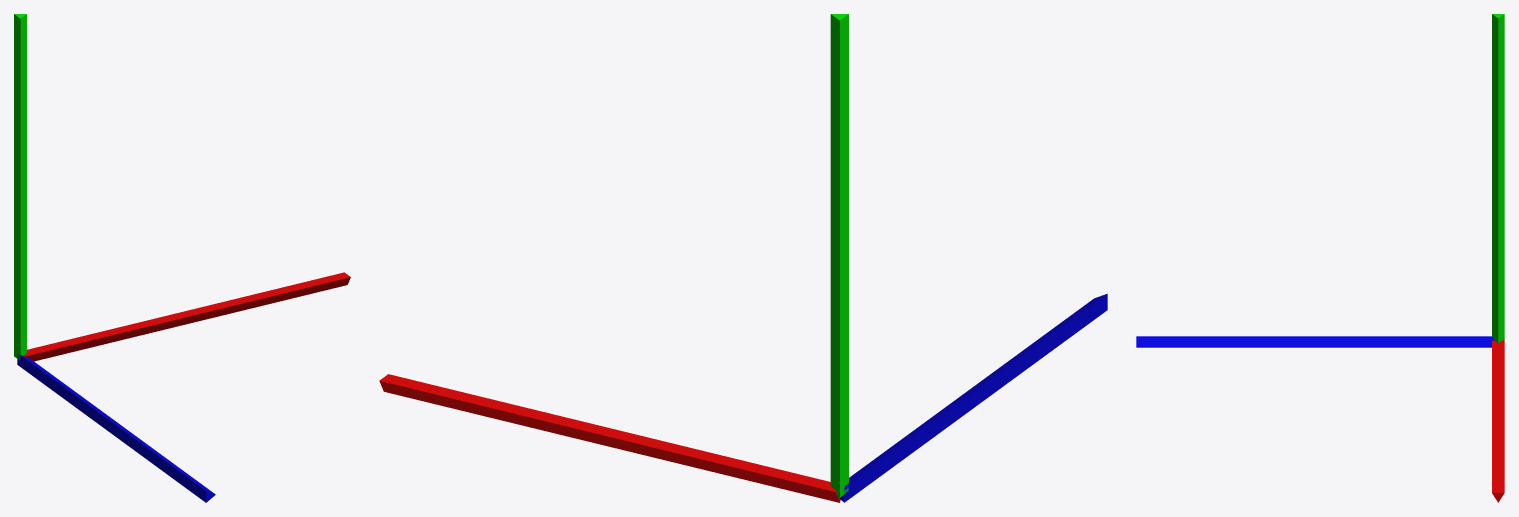
The model's file is Axis.fbx.
The picture shows the model from 3 angles, left to right: view 1: azimuth 30°, elevation 25°; view 2: azimuth 150°, elevation 25°; view 3: azimuth 270°, elevation 25°; orthographic projection. The views are drawn at different scales.
Visible parts, largest first — view 1: pasted__pCylinder1 (×2), pCylinder1; view 2: pasted__pCylinder1 (×2), pCylinder1; view 3: pasted__pCylinder1 (×2), pCylinder1.
Boxes of the visible parts, x1,y1,x2,y2 form: pasted__pCylinder1 (×2): [17, 272, 350, 502]; pCylinder1: [14, 14, 26, 360]; pasted__pCylinder1 (×2): [379, 293, 1107, 502]; pCylinder1: [830, 14, 848, 497]; pasted__pCylinder1 (×2): [1136, 336, 1504, 502]; pCylinder1: [1492, 14, 1504, 342].
Bounding box in the file's own units: 10.1 × 10.2 × 10.17.
